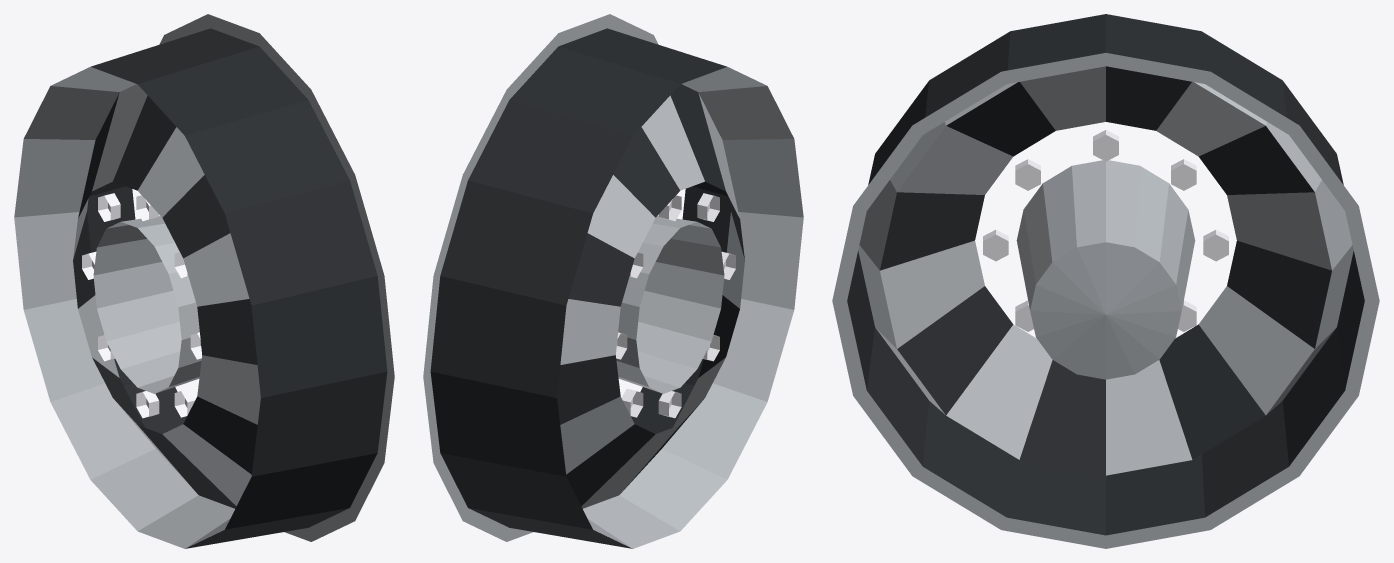
The model's file is rim_06_heavy_dually.obj.
3 renders of one model, left to right at view 1: azimuth 30°, elevation 25°; view 2: azimuth 150°, elevation 25°; view 3: azimuth 270°, elevation 25°, orthographic.
Visible parts, largest first — view 1: rim_06_heavy_dually; view 2: rim_06_heavy_dually; view 3: rim_06_heavy_dually.
Boxes of the visible parts, x1,y1,x2,y2 form: rim_06_heavy_dually: (14,14,394,548); rim_06_heavy_dually: (423,14,803,548); rim_06_heavy_dually: (832,14,1379,548).
Bounding box in the file's own units: 0.1844 × 0.575 × 0.575.
